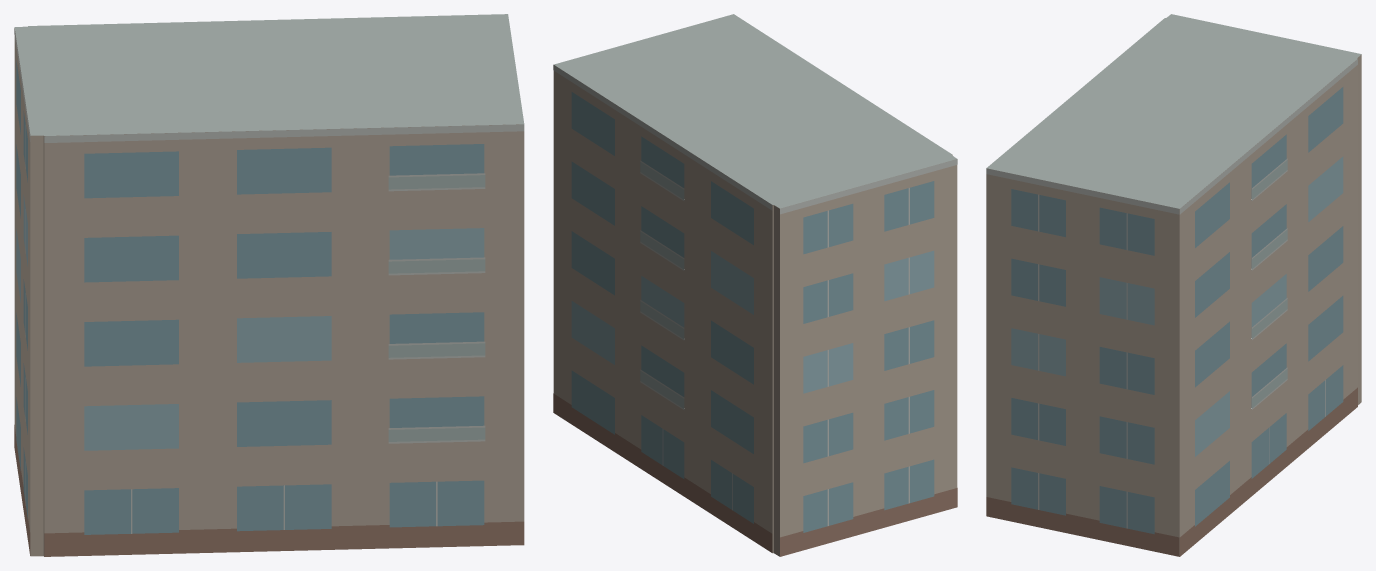
File: survey-upis-32888307.glb
3 renders of one model, left to right at view 1: azimuth 30°, elevation 25°; view 2: azimuth 150°, elevation 25°; view 3: azimuth 270°, elevation 25°, orthographic. The views are drawn at different scales.
Visible parts, largest first — view 1: survey-upis-32888307.tmp; view 2: survey-upis-32888307.tmp; view 3: survey-upis-32888307.tmp.
Boxes of the visible parts, box(x1,y1,x2,y2) form: survey-upis-32888307.tmp: box(14, 14, 524, 556); survey-upis-32888307.tmp: box(553, 14, 957, 556); survey-upis-32888307.tmp: box(986, 14, 1361, 556).
Bounding box in the file's own units: 17.48 × 14.55 × 14.23.
